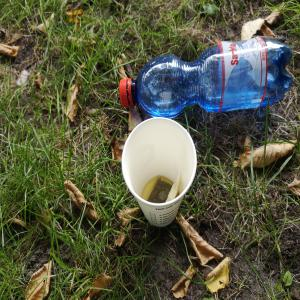Cup: (122, 117, 199, 229)
Plastic-bottle: (120, 35, 296, 120)
